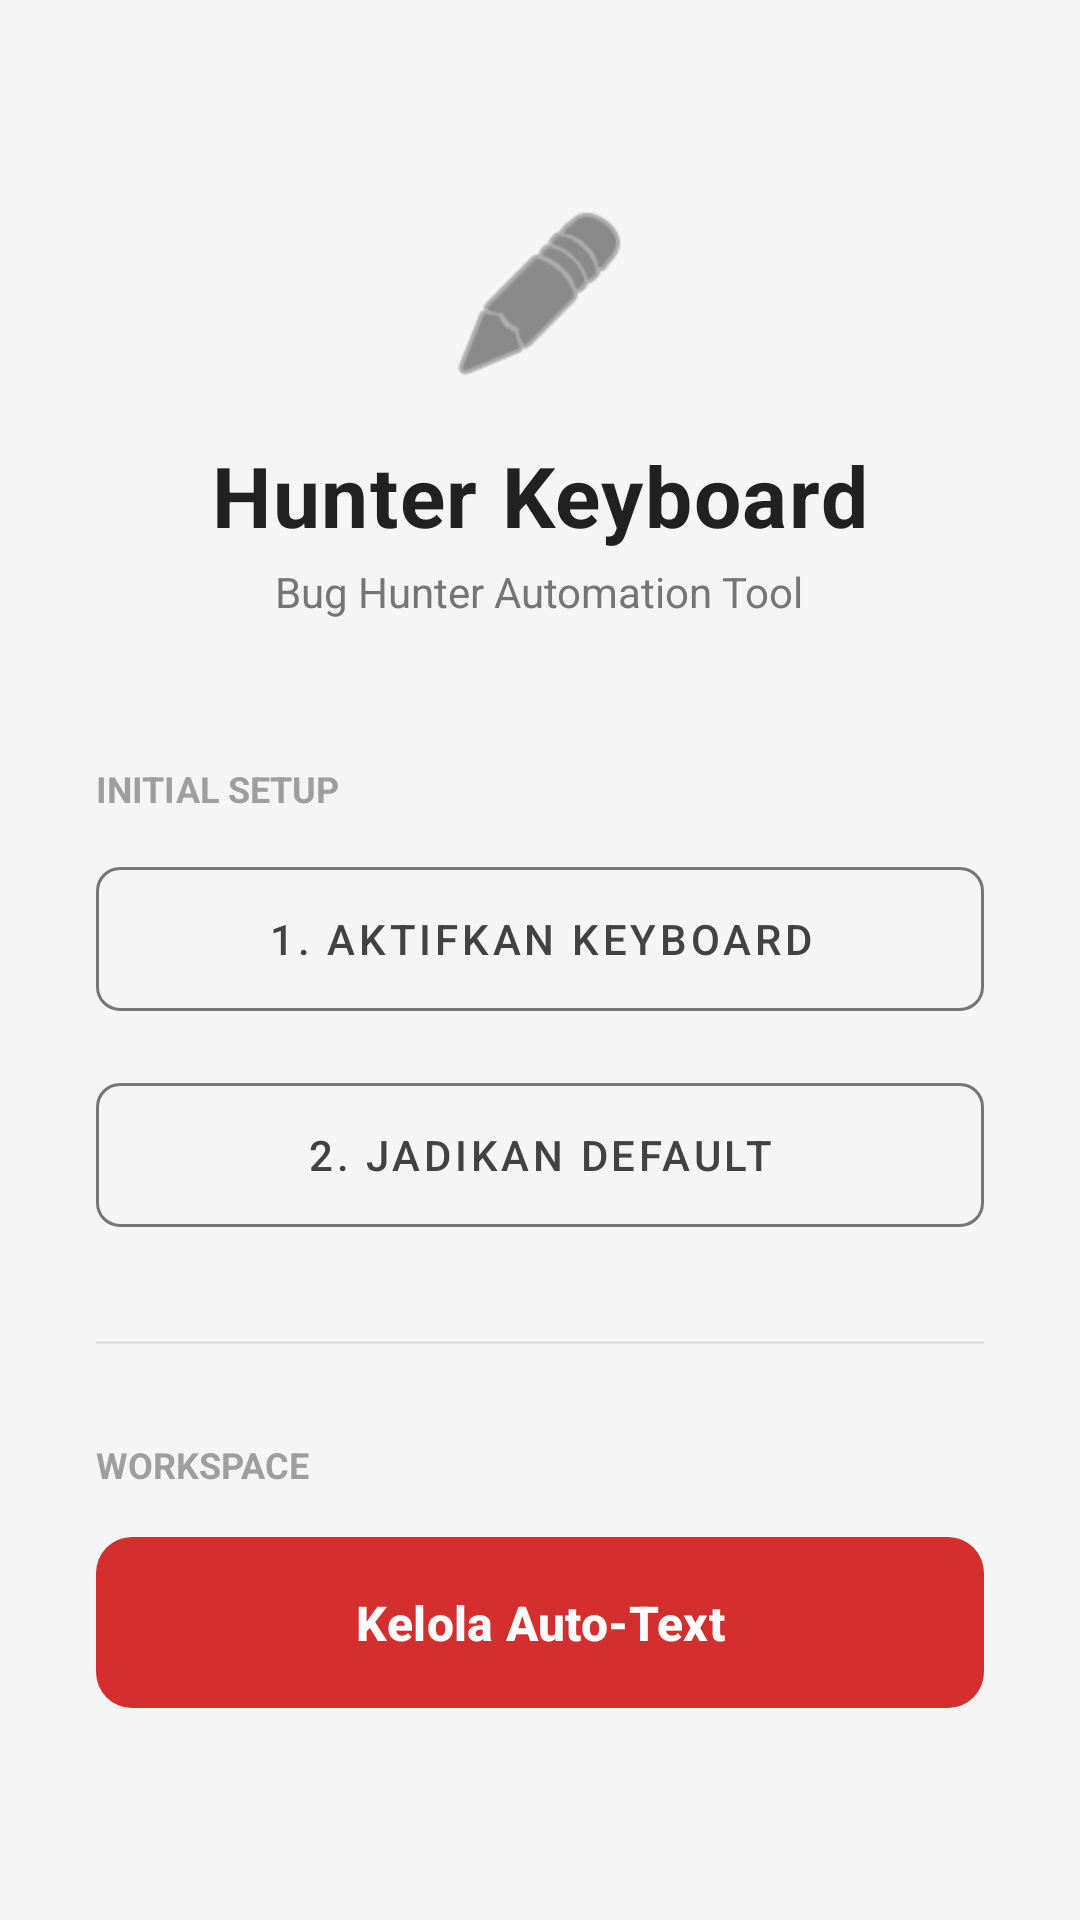

Screen size 1080 x 1920. Icon name, then its box in pixels as [x1,y1,x2,y2]:
edit: [458,213,620,375]
